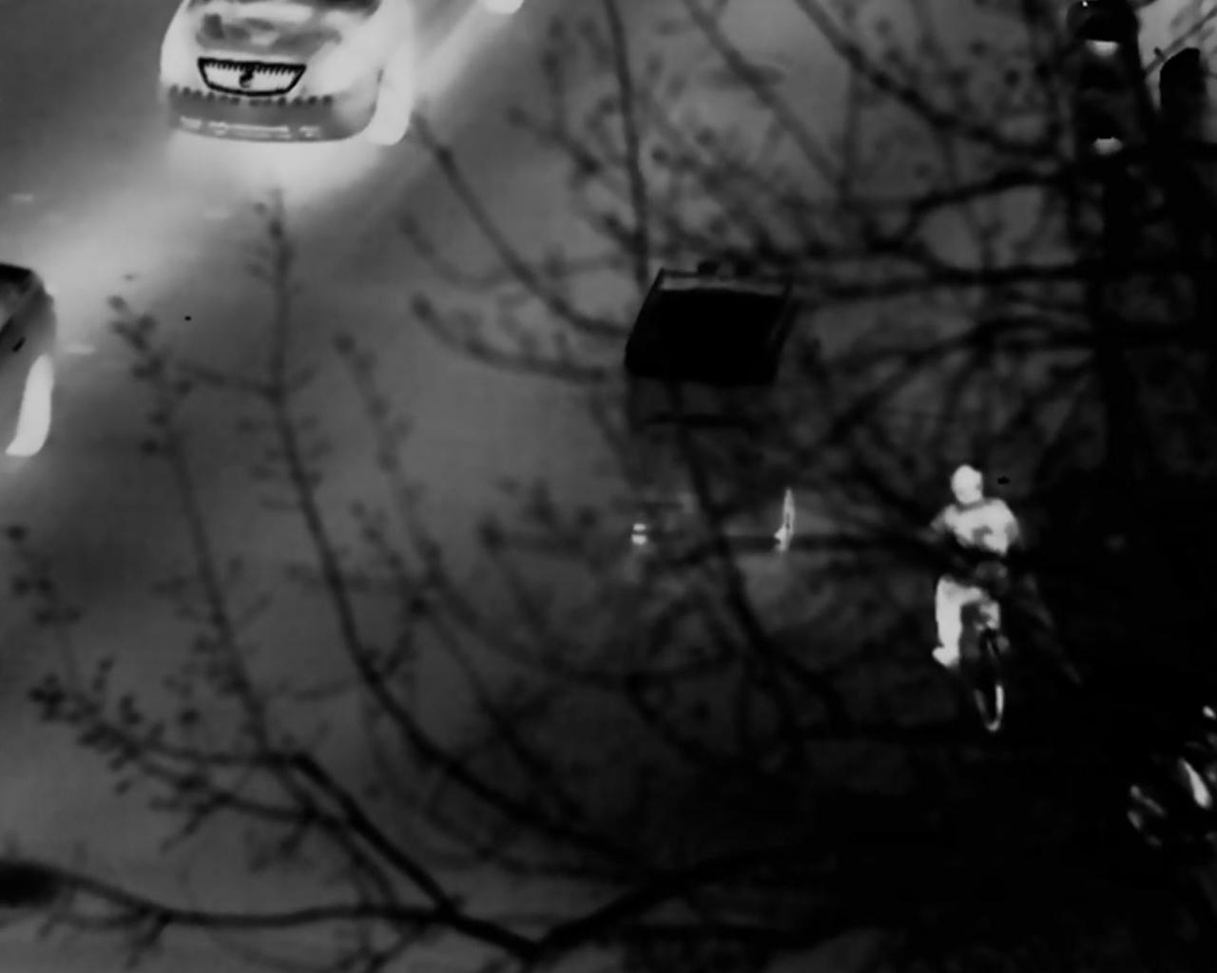person: (921, 458, 1021, 684)
